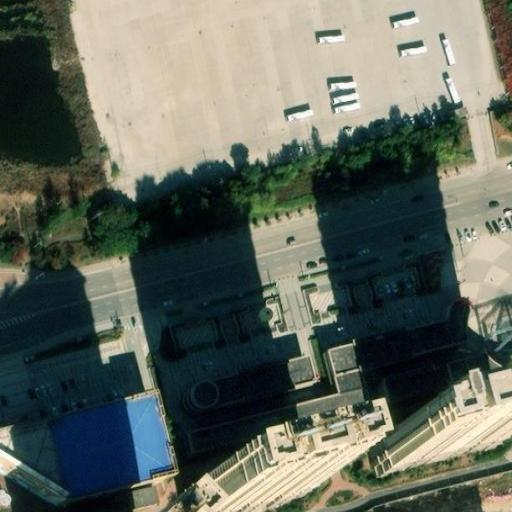building: (188, 343, 371, 454), (52, 394, 174, 502), (353, 296, 472, 403), (216, 438, 345, 509), (384, 407, 512, 477), (192, 356, 313, 408)
